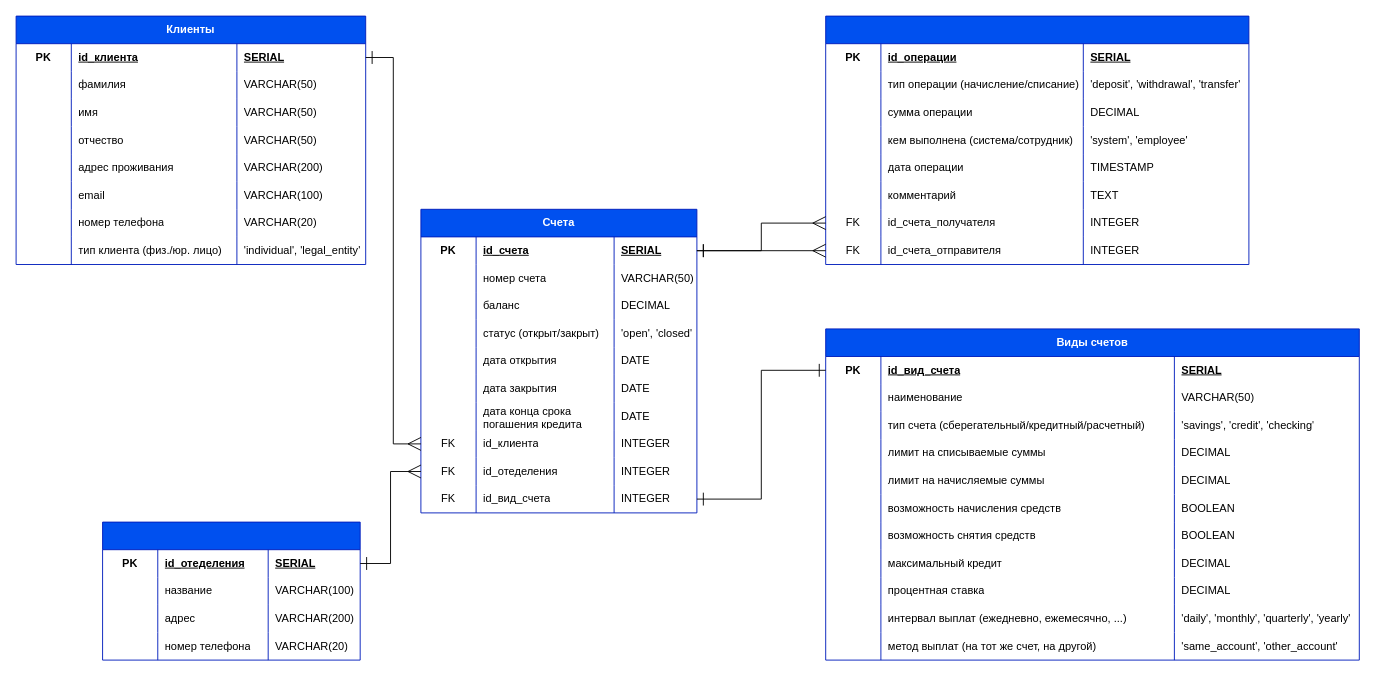
Some shapes in this 1375 by 676 pixel diagram are drawn without their labels. The shapes that lost their labels are listed below. From the top down, each one's box as (x1, y1, x2, y2) in pixels, then its label:
(825, 15, 1249, 264): Операции по счетам
(102, 521, 360, 660): Отделения
